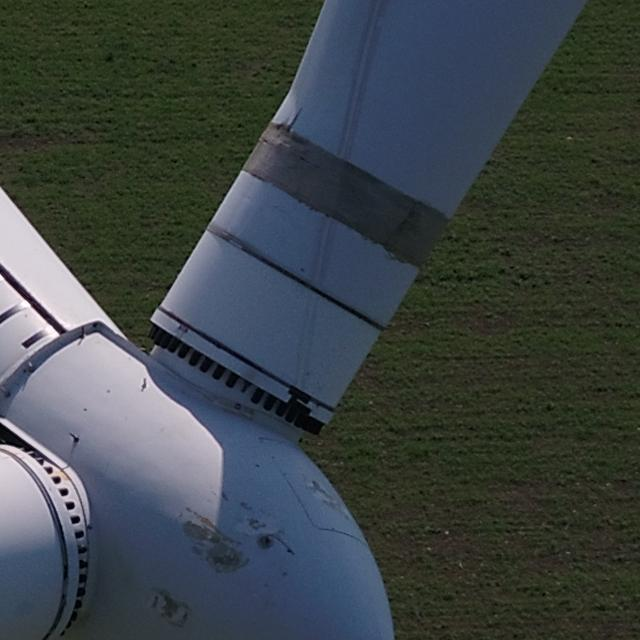damage: (175, 505, 250, 572), (146, 583, 193, 630), (219, 488, 231, 503)
